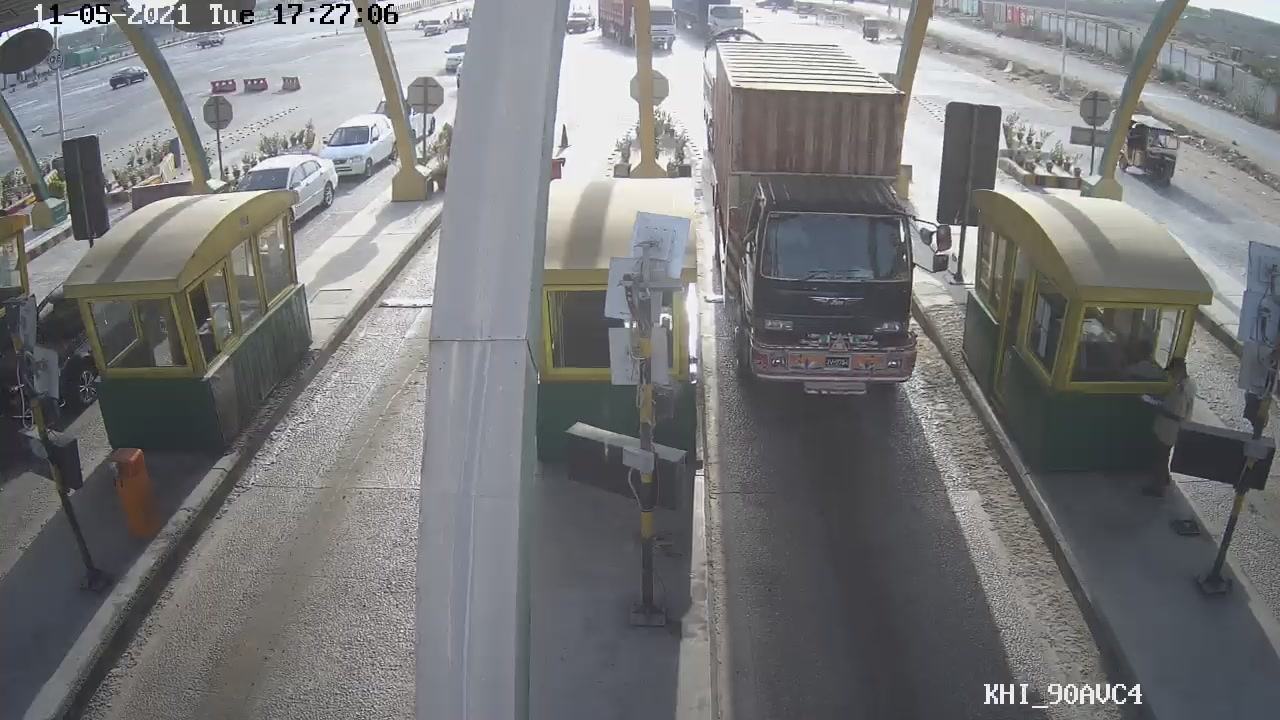F6: (704, 63, 963, 409)
